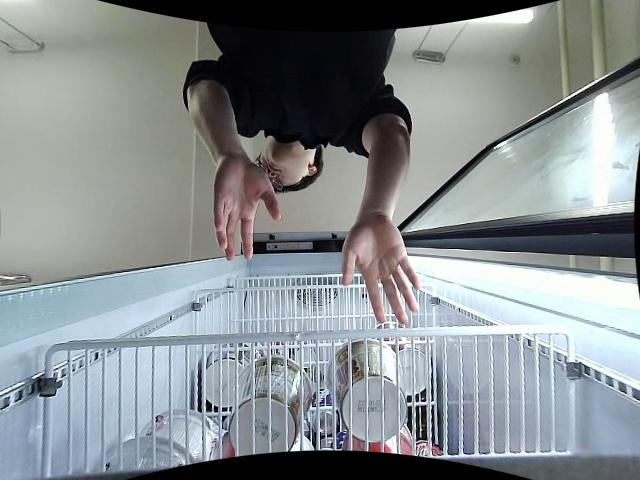00_hand: (342, 217, 421, 325), (213, 157, 283, 261)
